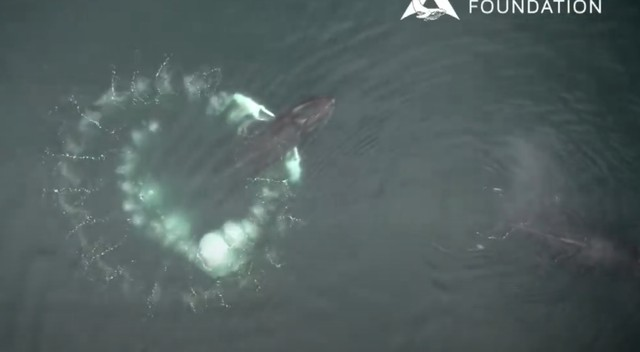whale: (177, 83, 344, 204)
